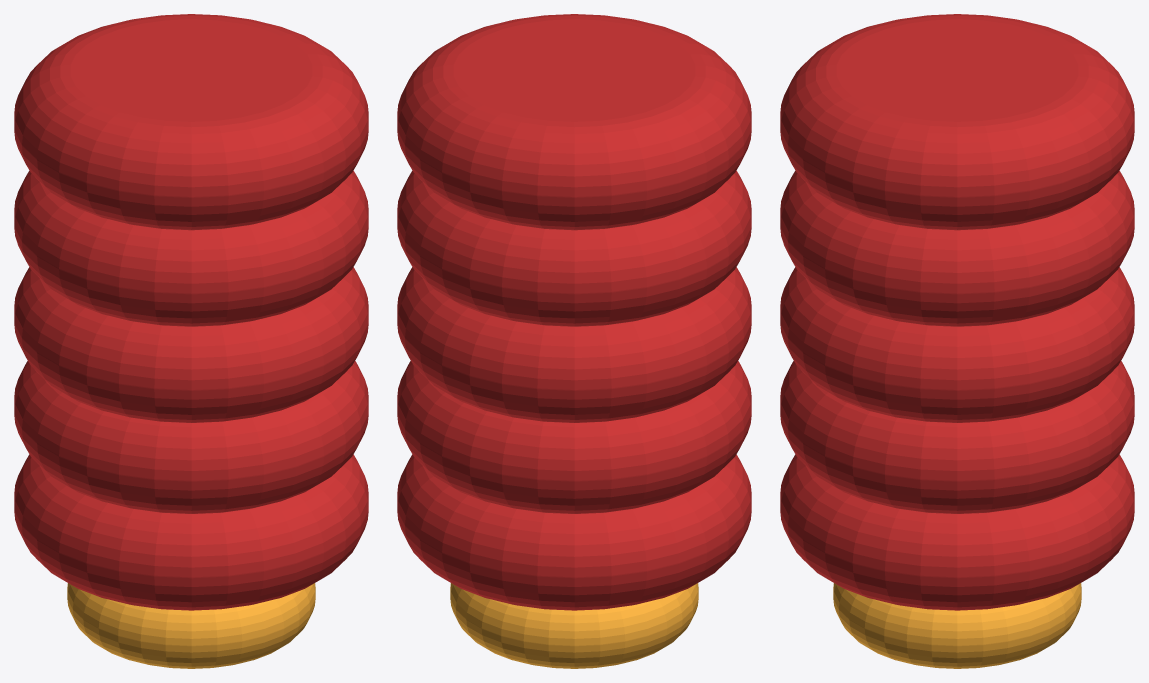
File: Obstacle1.fbx
3 renders of one model, left to right at view 1: azimuth 30°, elevation 25°; view 2: azimuth 150°, elevation 25°; view 3: azimuth 270°, elevation 25°, orthographic.
Parts seen in each view (by area): view 1: Cylinder_6, Cylinder_2, Cylinder_5, Cylinder_4, Cylinder_1, Cylinder_7; view 2: Cylinder_6, Cylinder_2, Cylinder_5, Cylinder_4, Cylinder_1, Cylinder_7; view 3: Cylinder_6, Cylinder_2, Cylinder_5, Cylinder_4, Cylinder_1, Cylinder_7.
Boxes of the visible parts, x1,y1,x2,y2 form: Cylinder_6: [14, 14, 368, 230]; Cylinder_2: [14, 454, 368, 610]; Cylinder_5: [14, 170, 368, 326]; Cylinder_4: [14, 267, 368, 422]; Cylinder_1: [14, 361, 368, 513]; Cylinder_7: [67, 583, 315, 668]; Cylinder_6: [397, 14, 751, 230]; Cylinder_2: [397, 454, 751, 610]; Cylinder_5: [397, 170, 751, 326]; Cylinder_4: [397, 267, 751, 422]; Cylinder_1: [397, 361, 751, 513]; Cylinder_7: [450, 583, 698, 668]; Cylinder_6: [780, 14, 1134, 230]; Cylinder_2: [780, 454, 1134, 610]; Cylinder_5: [780, 170, 1134, 326]; Cylinder_4: [780, 267, 1134, 422]; Cylinder_1: [780, 361, 1134, 513]; Cylinder_7: [833, 583, 1081, 668].
Size of the model in its own units: 285 by 492 by 283.
